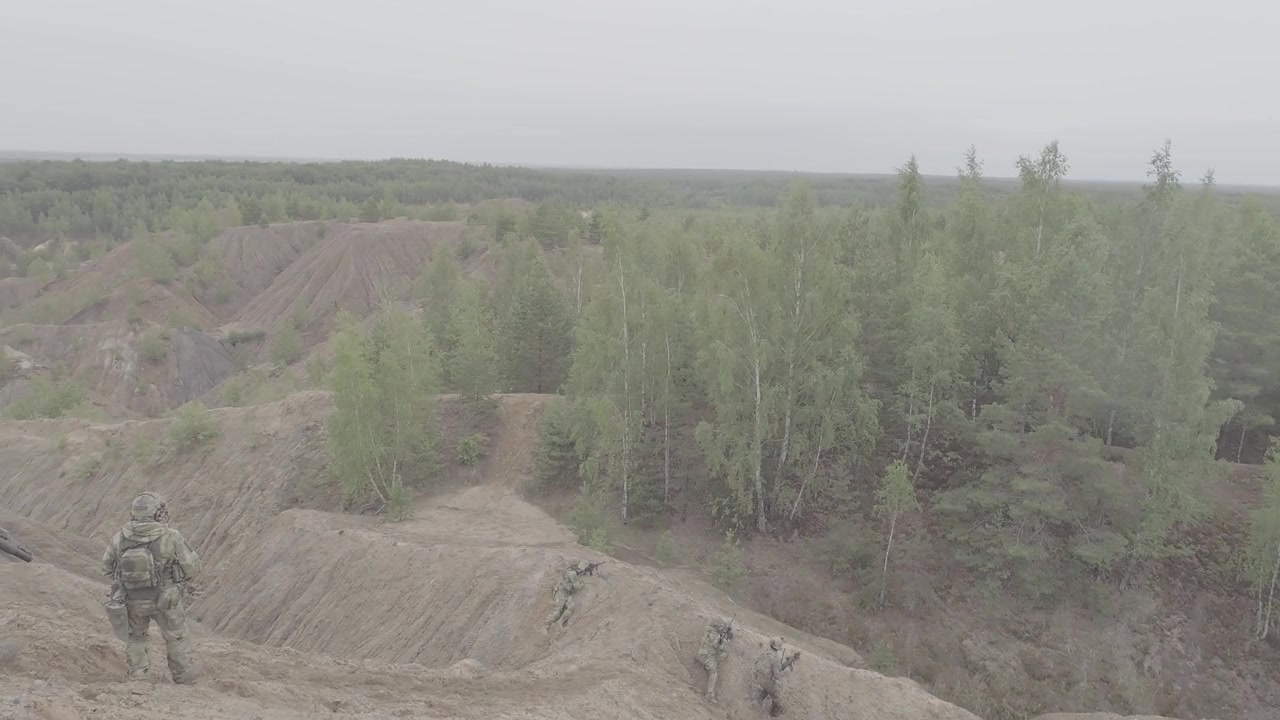person: (126, 495, 171, 691)
